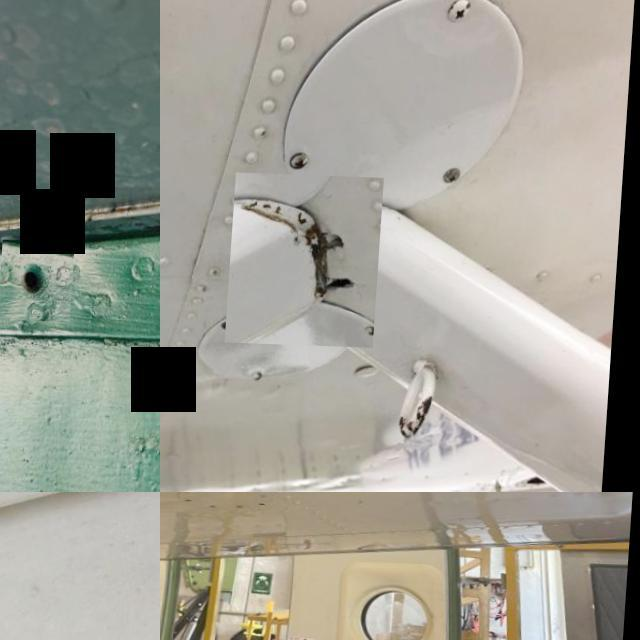Crack: (232, 170, 388, 344), (393, 376, 448, 462)
Missing_Fastener: (2, 237, 79, 319), (264, 500, 274, 506)
